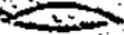Mouth: (8, 0, 123, 32)
